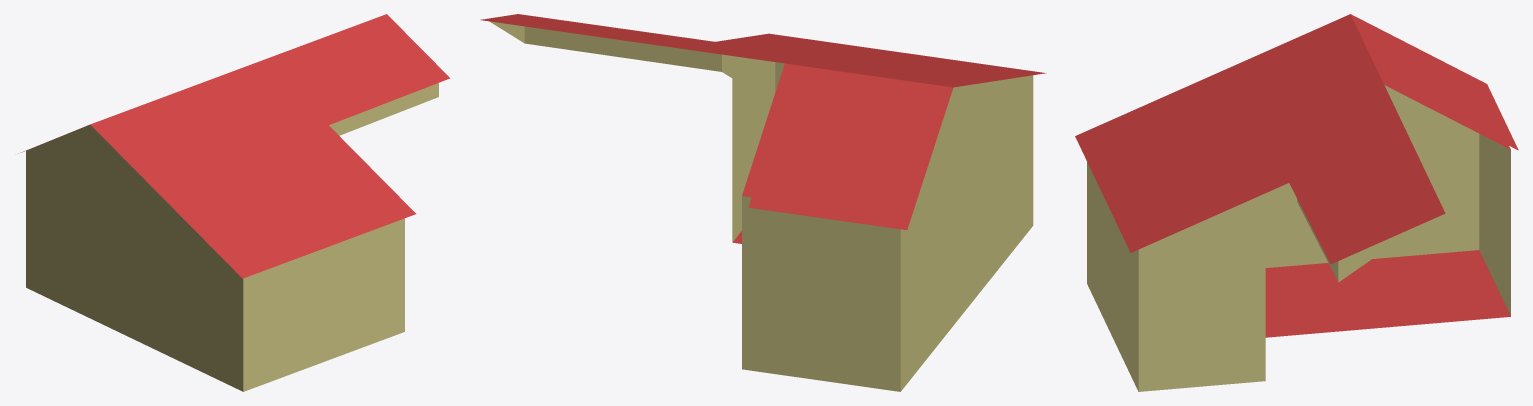
3 renders of one model, left to right at view 1: azimuth 30°, elevation 25°; view 2: azimuth 150°, elevation 25°; view 3: azimuth 270°, elevation 25°, orthographic. The views are drawn at different scales.
Bounding box in the file's own units: 26 × 22.08 × 13.32.
